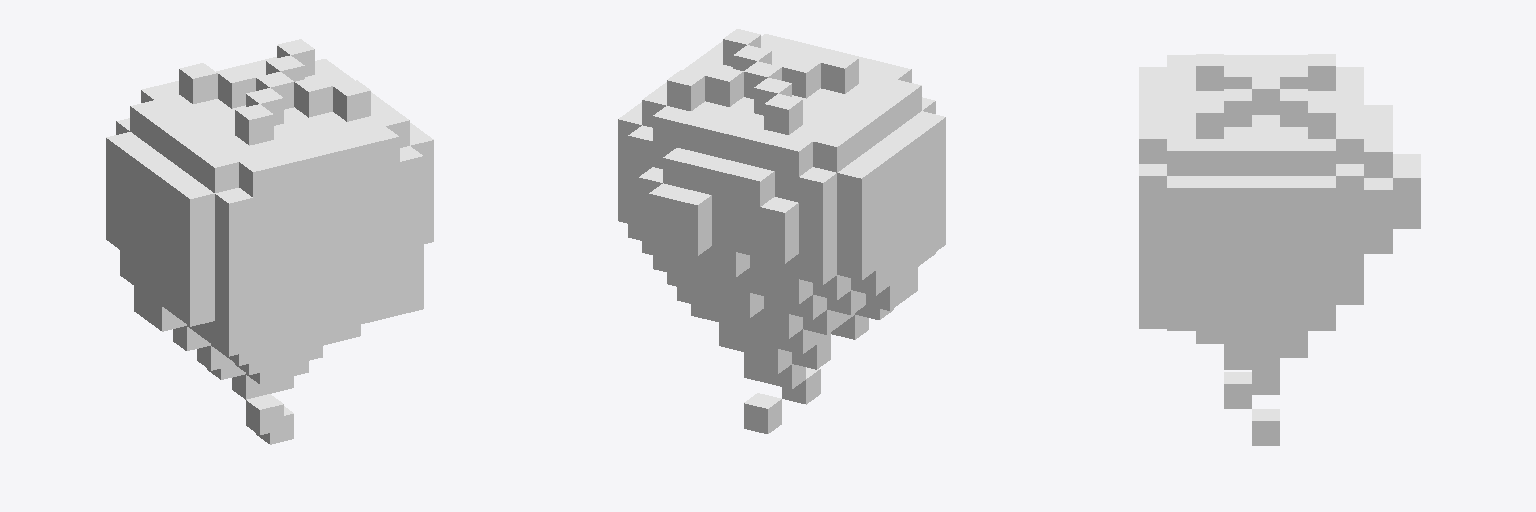
File: monster-evil.obj
3 renders of one model, left to right at view 1: azimuth 30°, elevation 25°; view 2: azimuth 150°, elevation 25°; view 3: azimuth 270°, elevation 25°, orthographic.
Size of the model in its own units: 10 by 14 by 10.